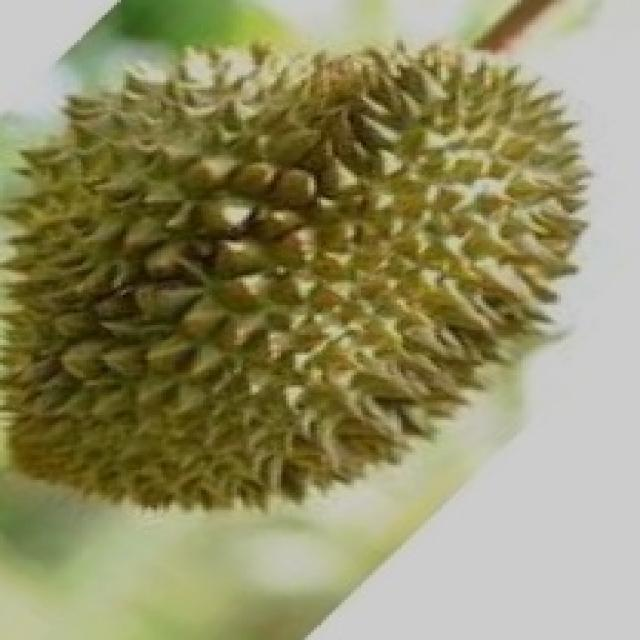fruit: (0, 222, 369, 578)
